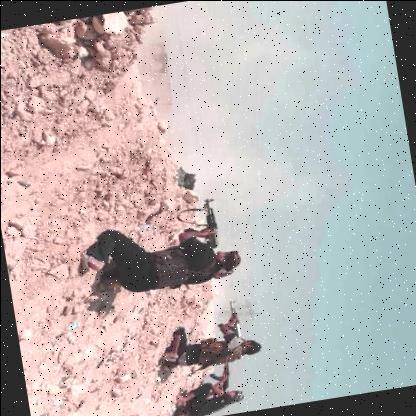rifle: (189, 197, 226, 255), (212, 298, 247, 346), (203, 360, 240, 399)
